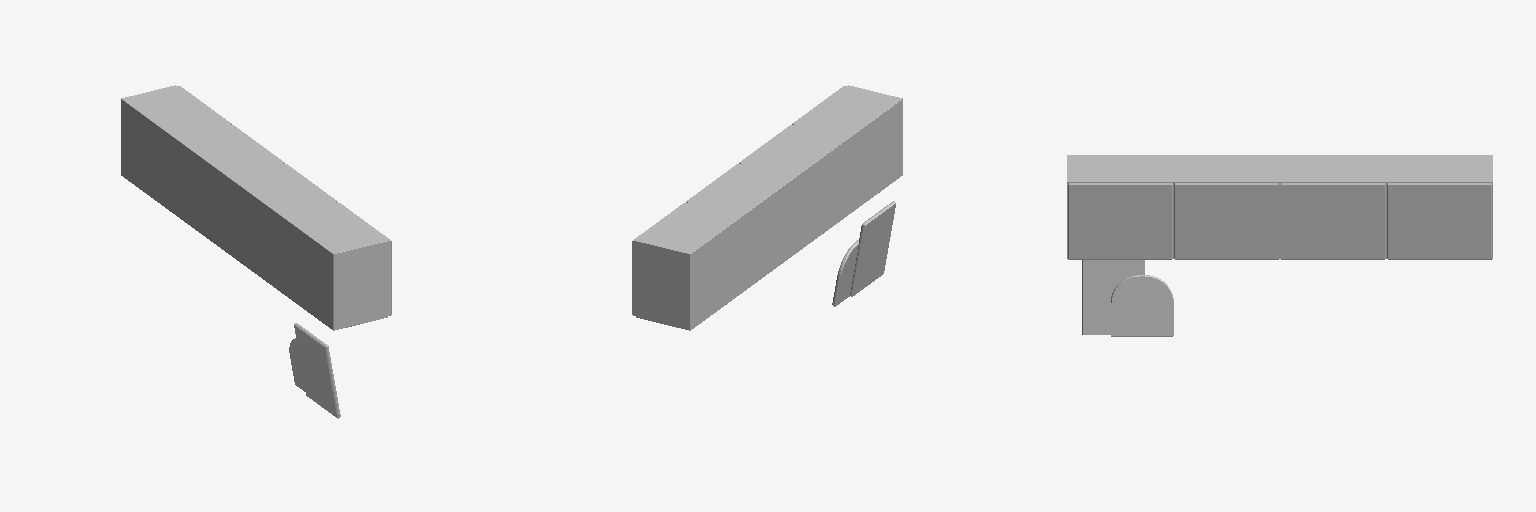
Rendered from cooking_interior.obj.
3 renders of one model, left to right at view 1: azimuth 30°, elevation 25°; view 2: azimuth 150°, elevation 25°; view 3: azimuth 270°, elevation 25°, orthographic.
Parts seen in each view (by area): view 1: Cube.032_Cube.052, Cube.046_Cube.066; view 2: Cube.032_Cube.052, Cube.046_Cube.066, Cube.047_Cube.067; view 3: Cube.032_Cube.052, Cube.047_Cube.067, Cube.046_Cube.066.
Boxes of the visible parts, x1=… form: Cube.032_Cube.052: x1=121, y1=85, x2=391, y2=330; Cube.046_Cube.066: x1=294, y1=323, x2=340, y2=418; Cube.032_Cube.052: x1=632, y1=85, x2=902, y2=330; Cube.046_Cube.066: x1=850, y1=201, x2=895, y2=296; Cube.047_Cube.067: x1=832, y1=240, x2=858, y2=306; Cube.032_Cube.052: x1=1067, y1=155, x2=1492, y2=259; Cube.047_Cube.067: x1=1111, y1=275, x2=1173, y2=336; Cube.046_Cube.066: x1=1082, y1=260, x2=1144, y2=334.
Bounding box in the file's own units: 0.3248 × 0.9032 × 2.01.